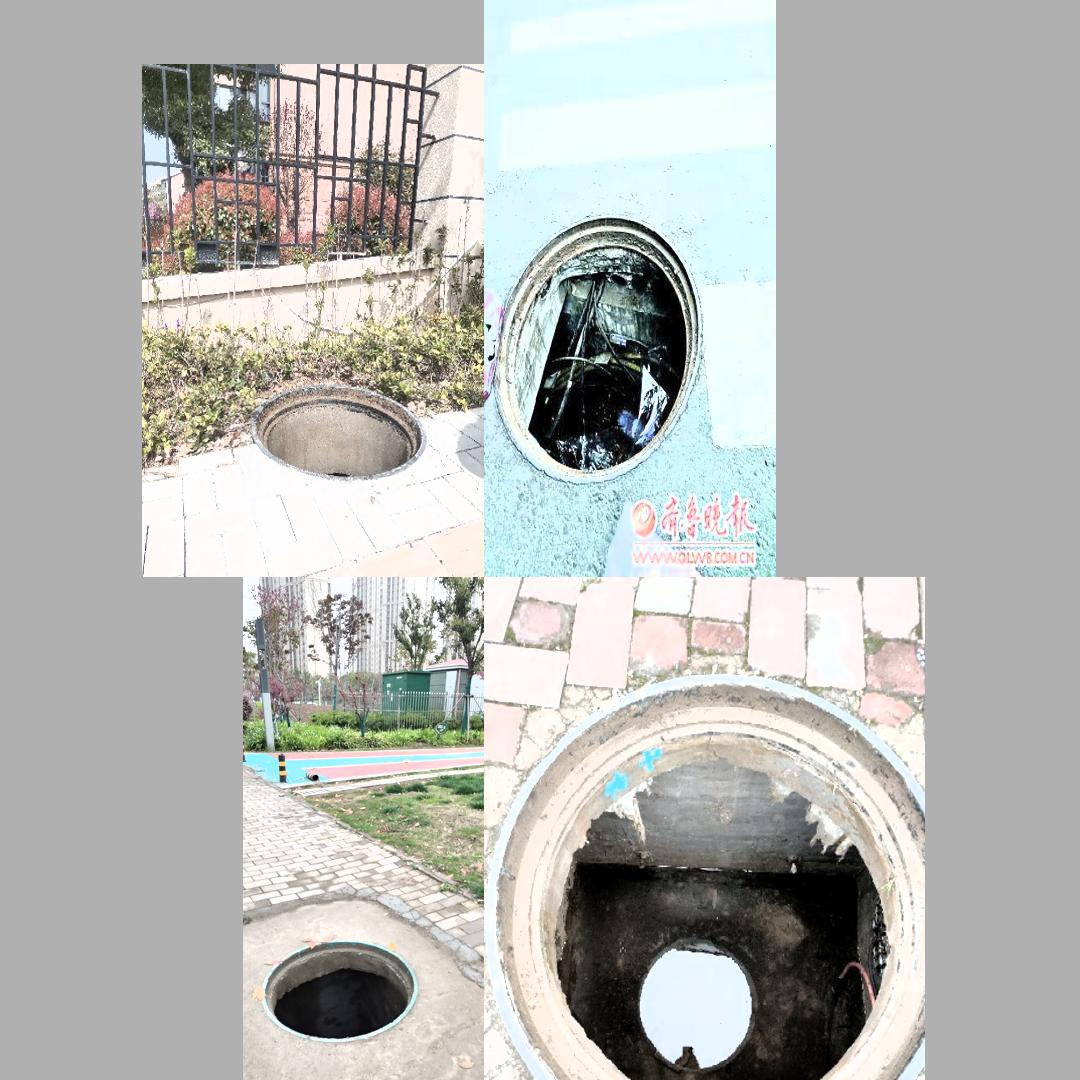lose: (486, 672, 921, 1080), (498, 203, 705, 482), (253, 383, 426, 480), (262, 938, 417, 1041)
